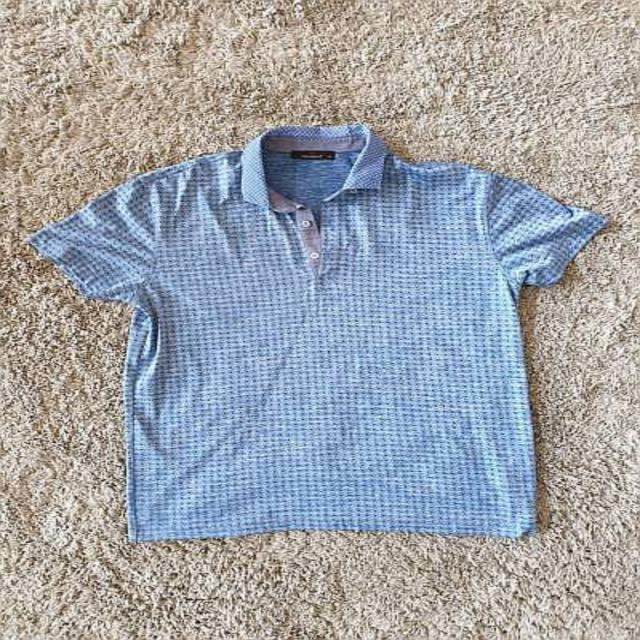T_SHIRT: (16, 115, 629, 550)
